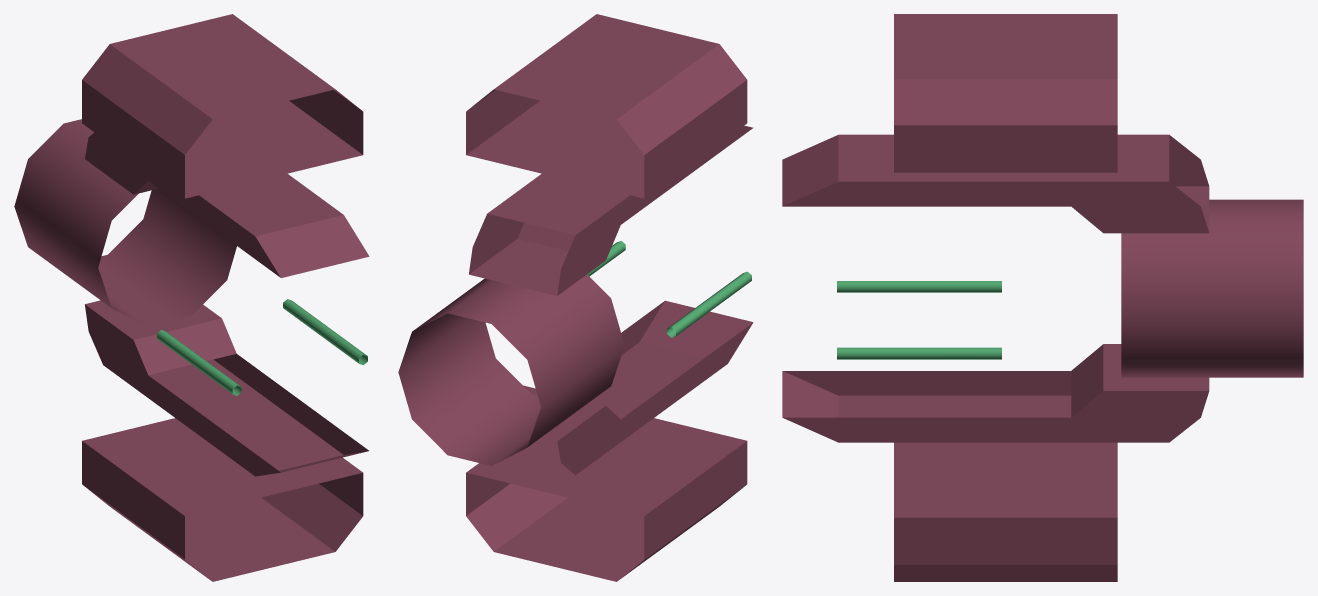
Rendered from mech 2 dynamic lod2.FBX.
3 renders of one model, left to right at view 1: azimuth 30°, elevation 25°; view 2: azimuth 150°, elevation 25°; view 3: azimuth 270°, elevation 25°, orthographic. The views are drawn at different scales.
Parts seen in each view (by area): view 1: Object1059; view 2: Object1059; view 3: Object1059.
Part boxes in pixels (x1,y1,x2,y2): Object1059: [14, 14, 369, 581]; Object1059: [398, 14, 753, 581]; Object1059: [782, 14, 1303, 581].
Size of the model in its own units: 0.9 by 2.23 by 2.1.
